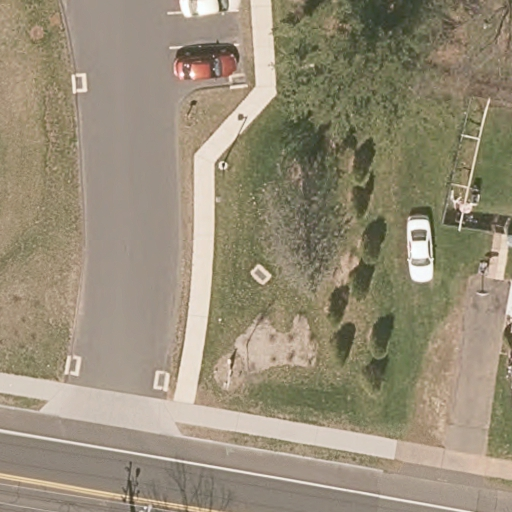DT: (134, 503, 153, 512)
